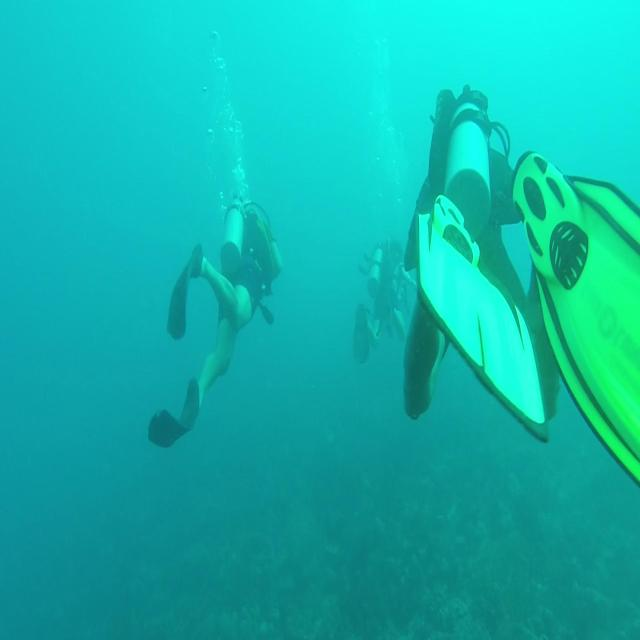human: (402, 83, 639, 486), (148, 192, 282, 448), (352, 234, 416, 365)
